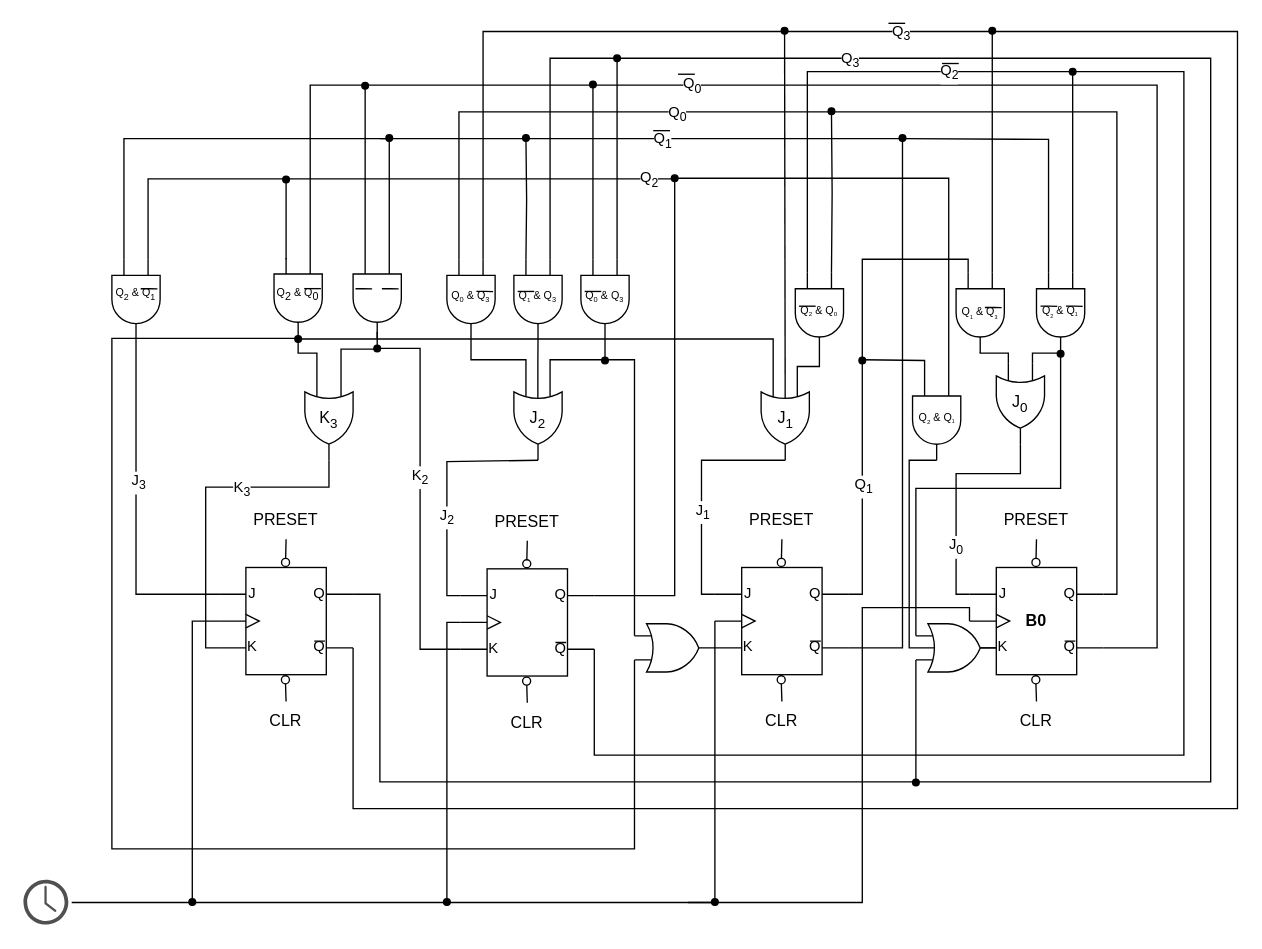
Some shapes in this 1262 by 949 pixel diagram are drawn without their labels. The shapes that lost their labels are listed below. From the top down, each one's centre as x and y in pixels, then its label:
At point (376, 297): "Q 0 & Q 1".
At point (285, 620): "B3".
At point (526, 621): "B2".
At point (781, 620): "B1".
At point (674, 647): "K 1".
At point (955, 647): "K 0".
